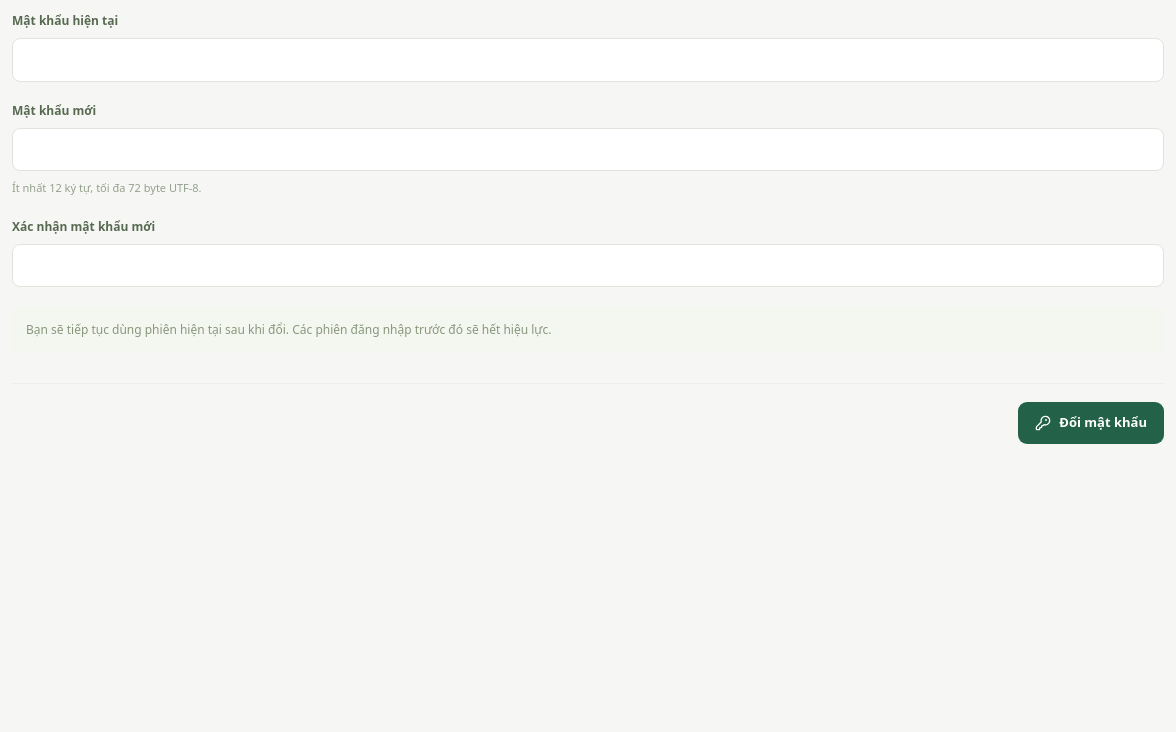
Scenario: preserves form values when the server rejects the current password
This screenshot has width=1176, height=732.
Type "ExistingPassword123!" into the password field labelled "Mật khẩu hiện tại" at (588, 60), box x1=12 y1=38 x2=1164 y2=82
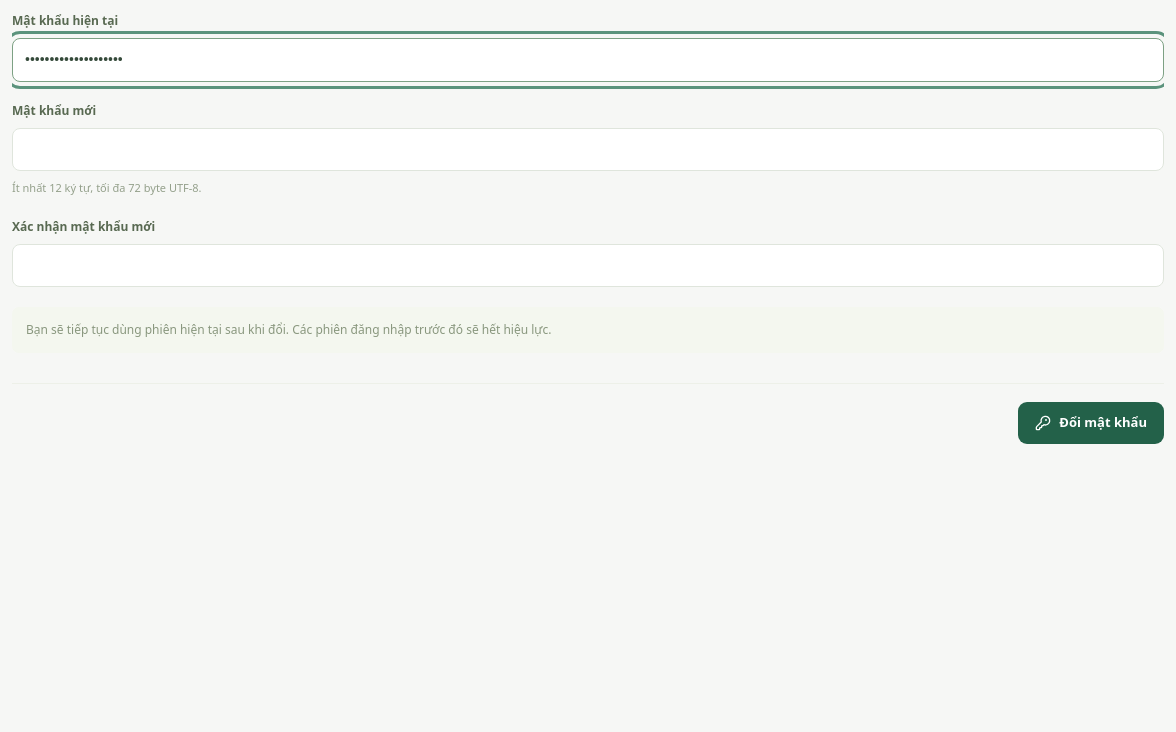
Type "NewPasswordForTest123!" into the password field labelled "Mật khẩu mới" at (588, 149), box x1=12 y1=128 x2=1164 y2=171
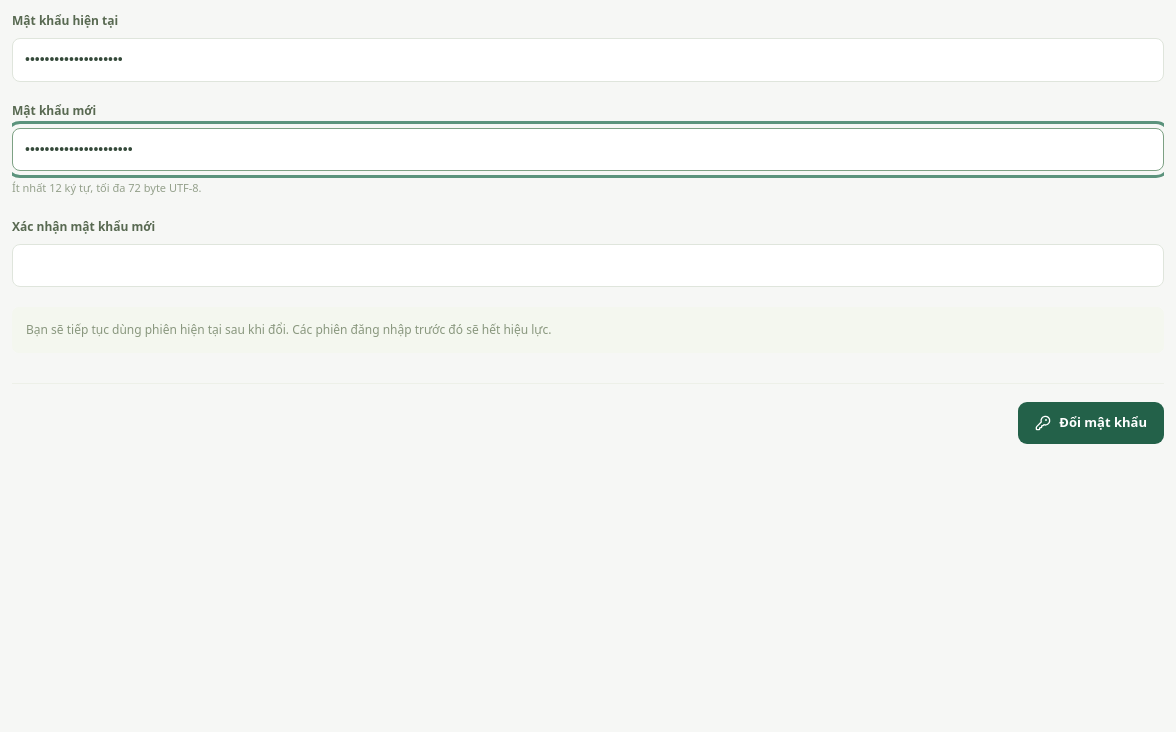
Type "NewPasswordForTest123!" into the password field labelled "Xác nhận mật khẩu mới" at (588, 265), box x1=12 y1=244 x2=1164 y2=287
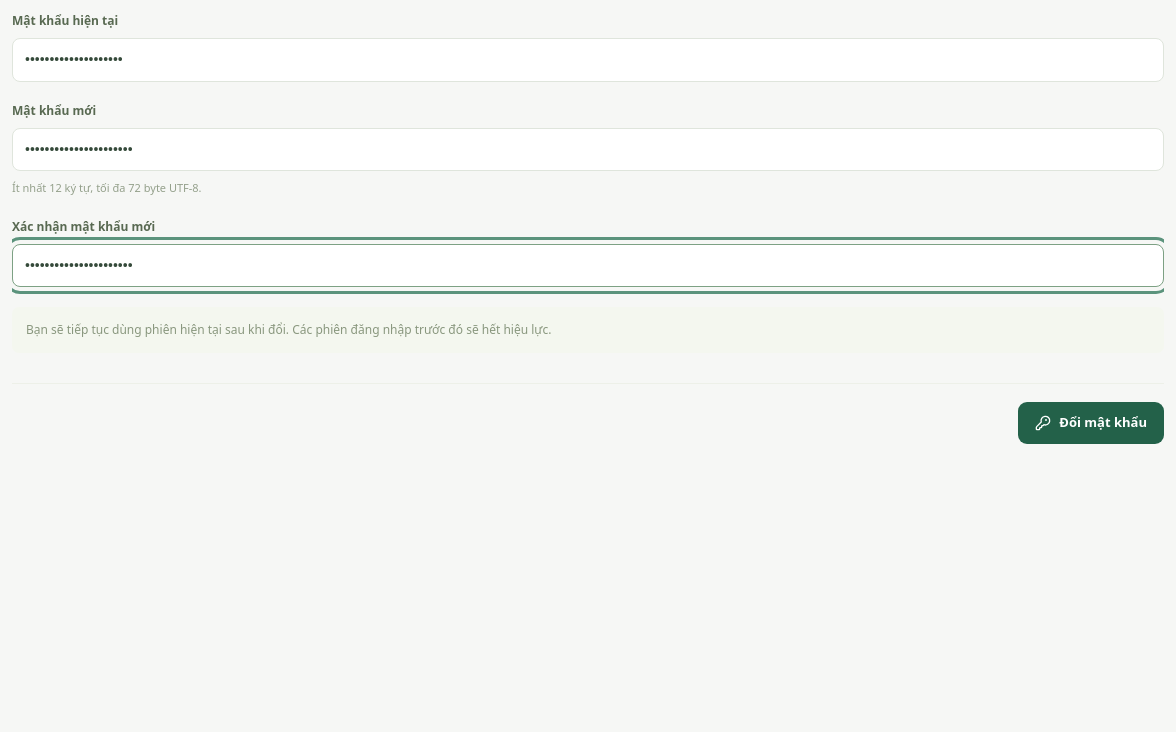
Click the button "Đổi mật khẩu" at (1091, 423), box x1=1018 y1=402 x2=1164 y2=444
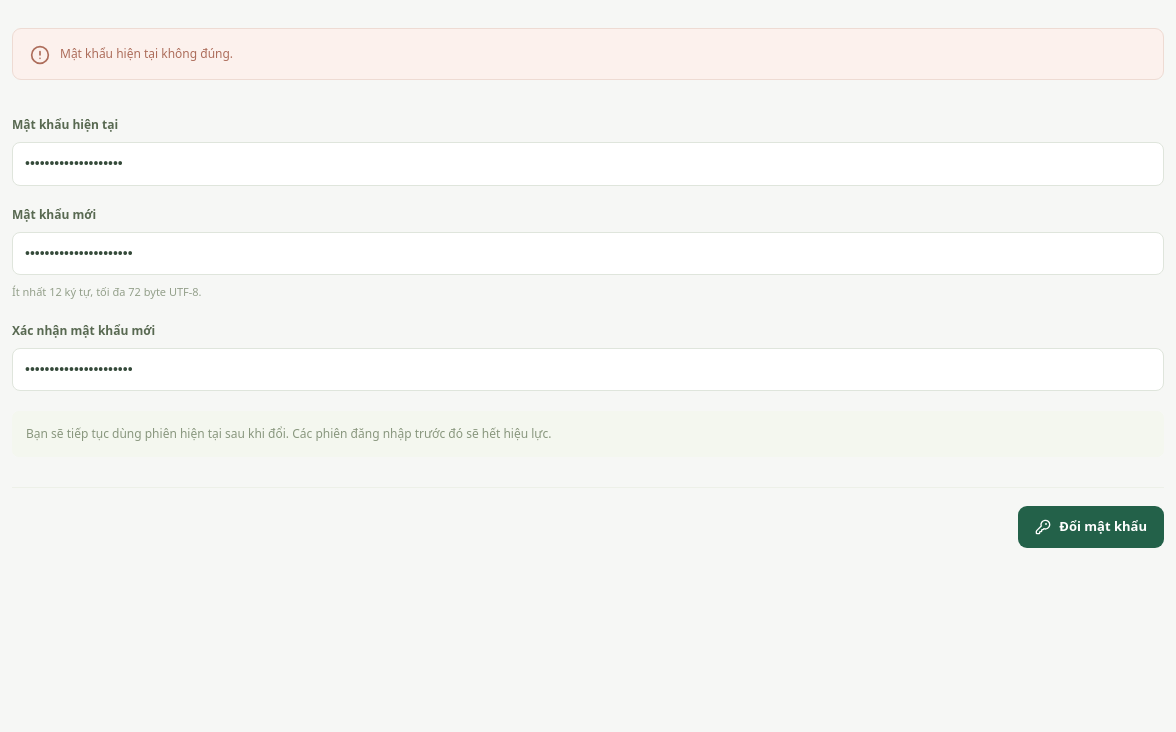
Now the message reads "Mật khẩu hiện tại không đúng.", box x1=60 y1=45 x2=233 y2=62
